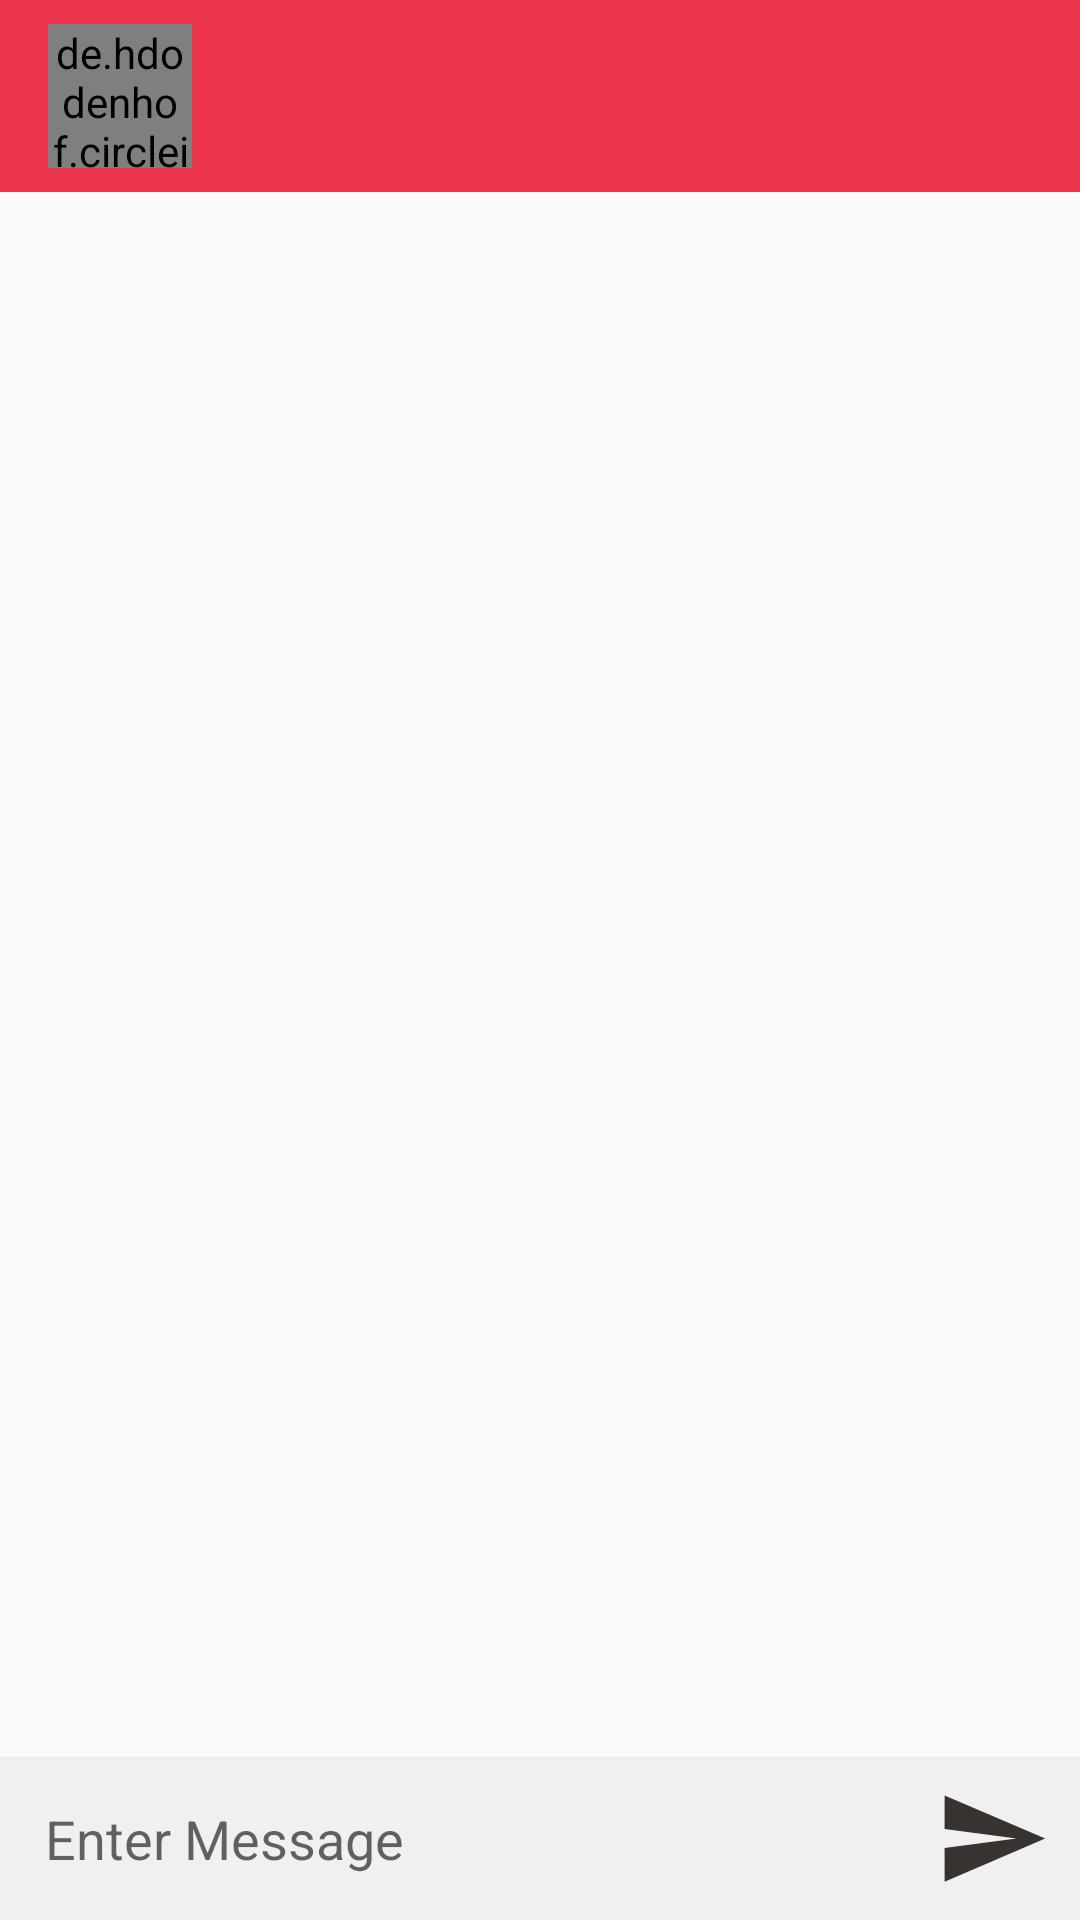

Icon bounding boxes for this 1080px x 1920px phone screenshot, format region(x1, y1, x2, y2):
send: region(944, 1795, 1045, 1882)
